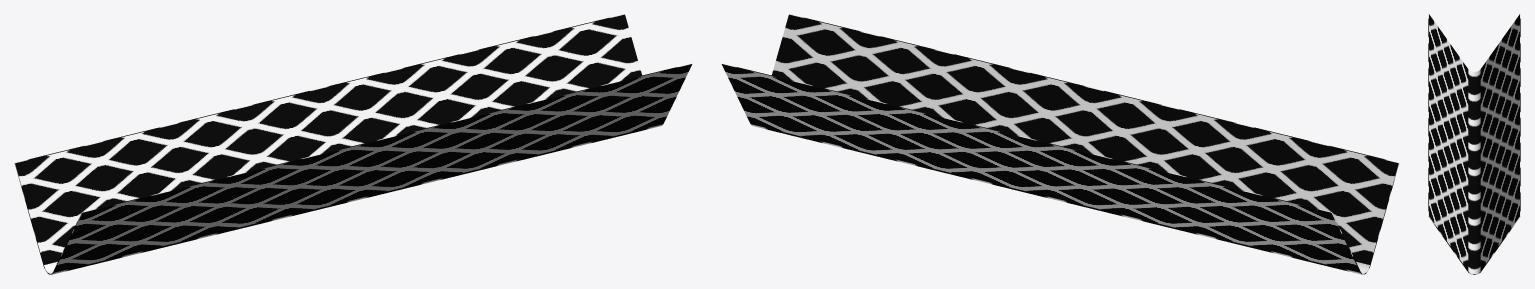
The picture shows the model from 3 angles, left to right: view 1: azimuth 30°, elevation 25°; view 2: azimuth 150°, elevation 25°; view 3: azimuth 270°, elevation 25°; orthographic projection. The views are drawn at different scales.
Size of the model in its own units: 1.24 by 0.1678 by 0.24.
Materials: 1 (1 with a texture image).
